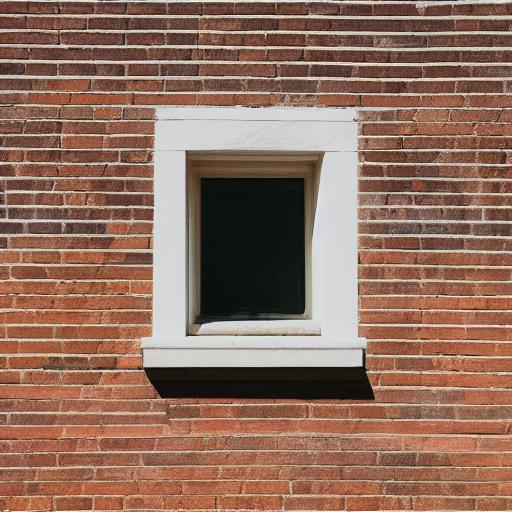Window: (141, 105, 371, 370)
